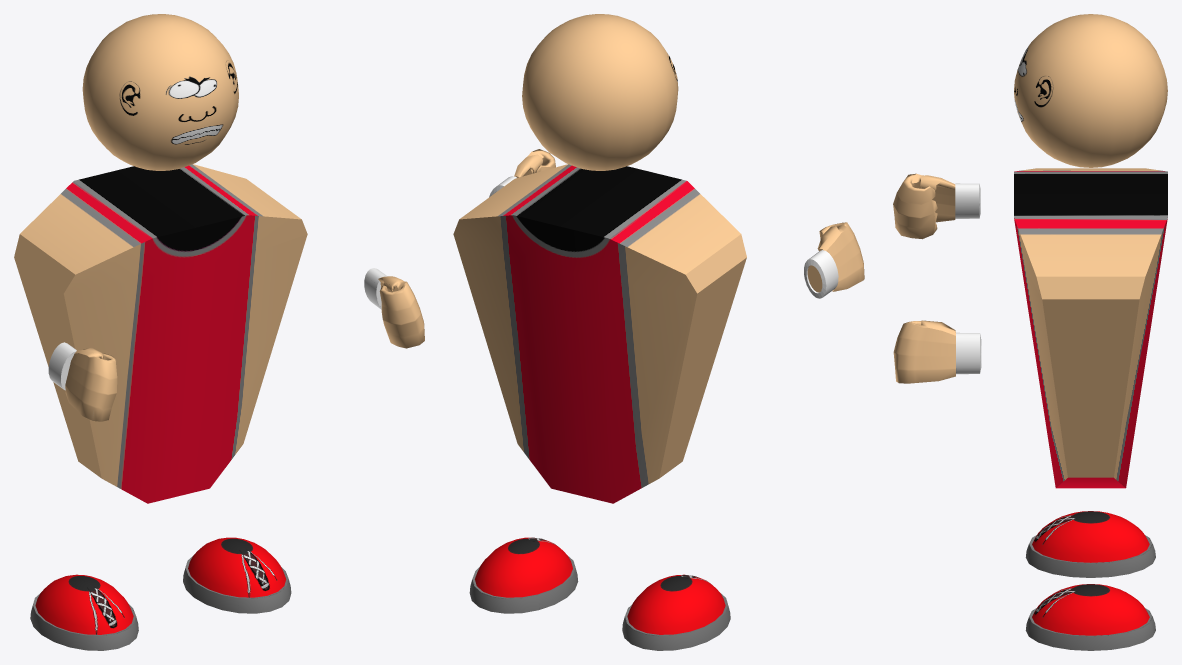
File: Character_Lifter.obj
The picture shows the model from 3 angles, left to right: view 1: azimuth 30°, elevation 25°; view 2: azimuth 150°, elevation 25°; view 3: azimuth 270°, elevation 25°; orthographic projection. The views are drawn at different scales.
Visible parts, largest first — view 1: Character_Lifter; view 2: Character_Lifter; view 3: Character_Lifter.
Part boxes in pixels (x1,y1,x2,y2): Character_Lifter: (14,14,424,650); Character_Lifter: (453,14,864,650); Character_Lifter: (893,14,1167,650).
Bounding box in the file's own units: 1.26 × 2.05 × 0.8921.
